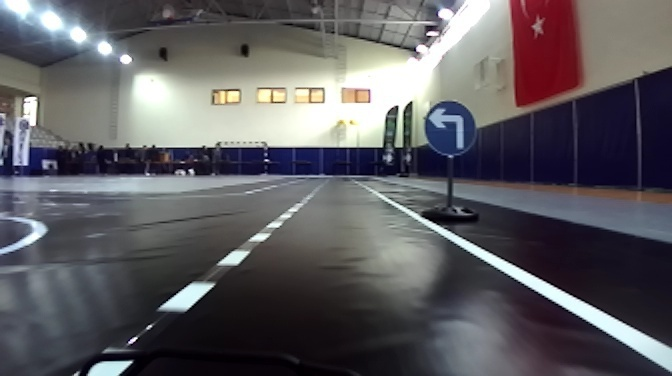sola_donus: (423, 102, 479, 155)
